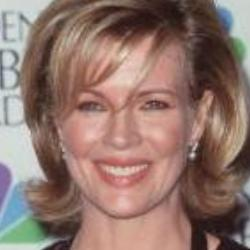face: (7, 1, 244, 220)
